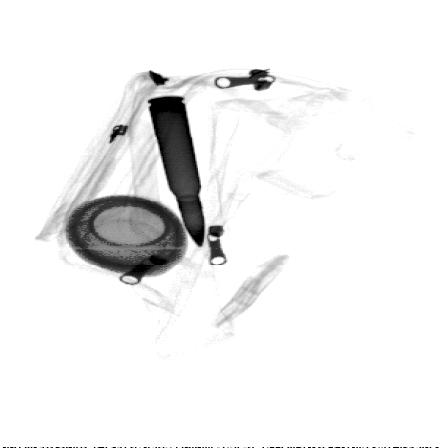Bullet: (146, 93, 207, 249)
